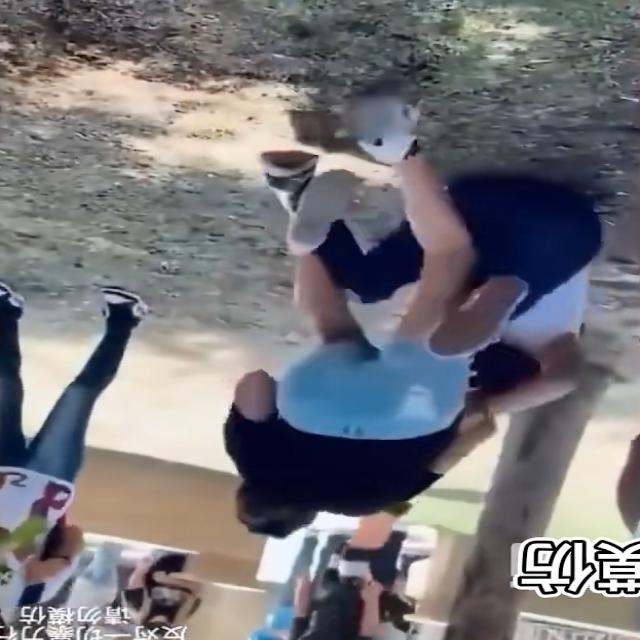fight: (220, 152, 599, 554)
